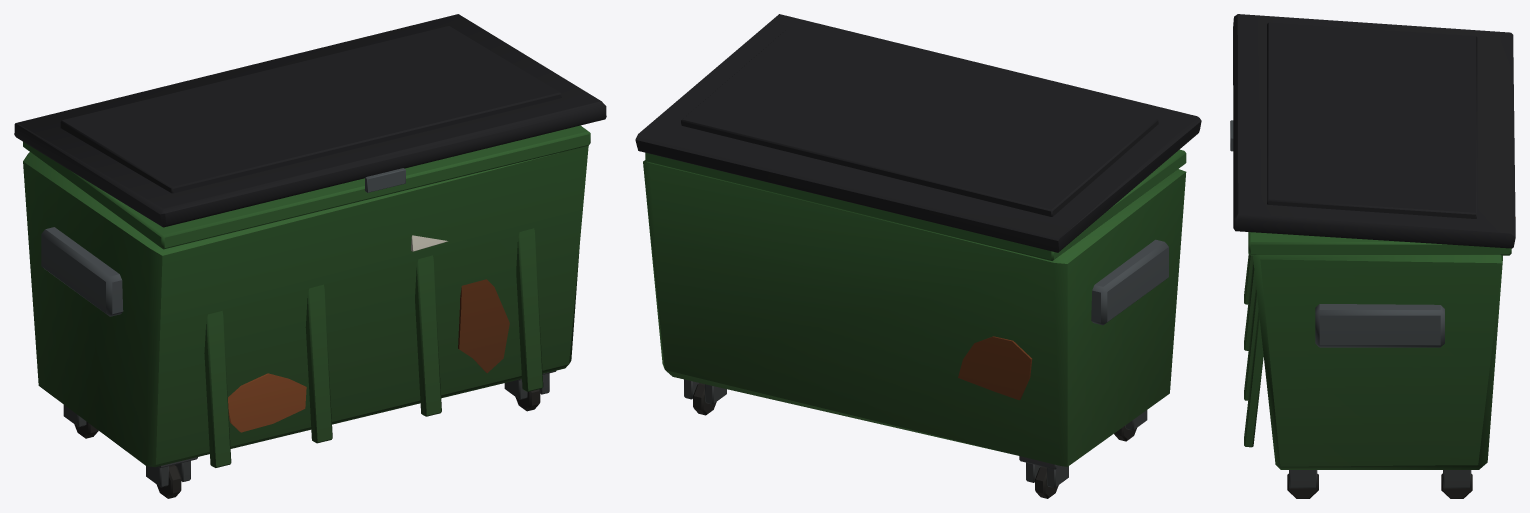
Rendered from 04_benne.fbx.
3 views of the same model, side by side, from view 1: azimuth 30°, elevation 25°; view 2: azimuth 150°, elevation 25°; view 3: azimuth 270°, elevation 25° (orthographic). The views are drawn at different scales.
Visible parts, largest first — view 1: Benne, Couvercle; view 2: Benne, Couvercle; view 3: Couvercle, Benne.
Boxes of the visible parts, box(x1,y1,x2,y2) form: Benne: box(23, 125, 590, 498); Couvercle: box(14, 14, 606, 227); Benne: box(643, 149, 1186, 498); Couvercle: box(635, 14, 1201, 252); Couvercle: box(1230, 14, 1515, 248); Benne: box(1244, 217, 1515, 498).
Bounding box in the file's own units: 1.68 × 1.12 × 0.952.
Materials: 1 (1 with a texture image).
